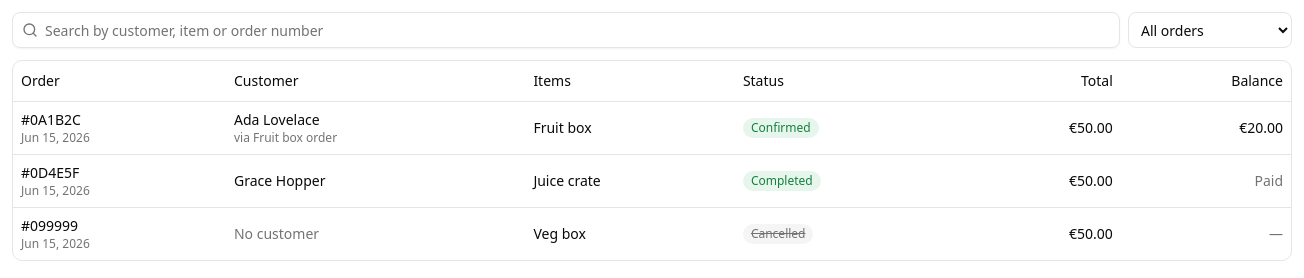
Test: OrdersTable › filters as you type and says when nothing matches
The image size is (1304, 278).
Type "juice" into the search field named "Search orders" at coordinates (566, 30), box [12,12,1120,48]
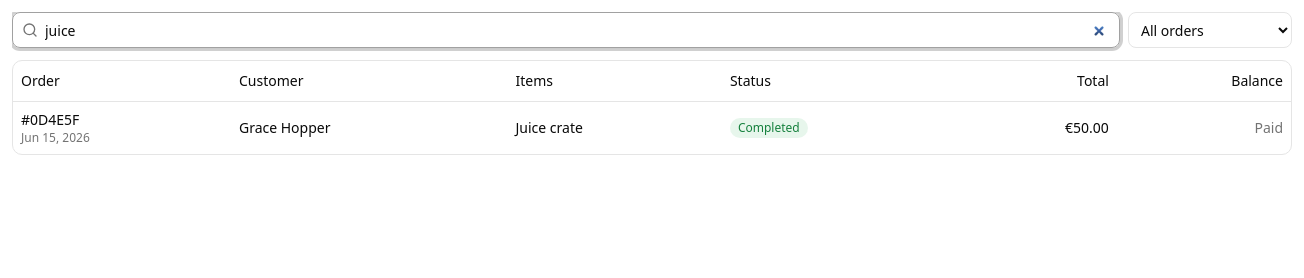
Check: the link "Grace Hopper" is shown, box [239,118,330,136]
Check: the number of rows is 2, box [13,61,1291,101]; [13,101,1291,154]
Type "zzz" into the search field named "Search orders" at coordinates (566, 30), box [12,12,1120,48]
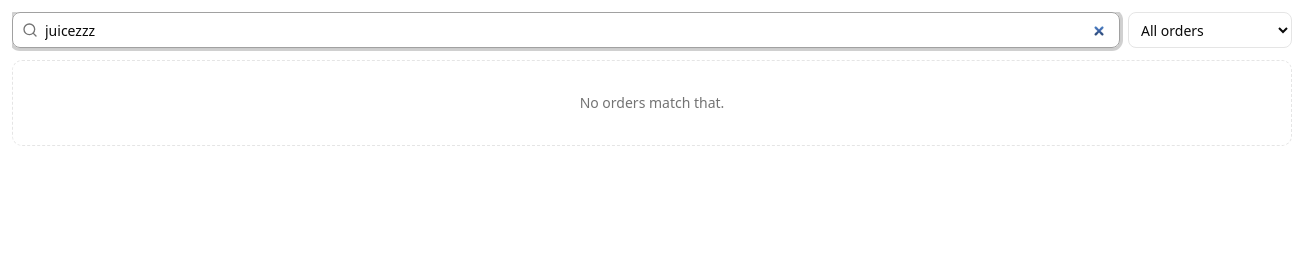
Check: the text "No orders match that." is shown, box [12,60,1292,146]
